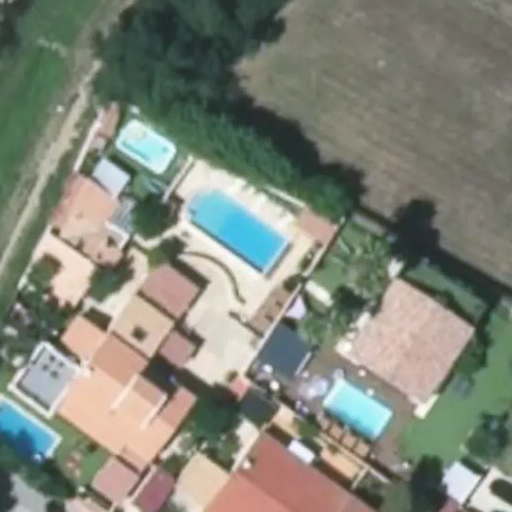pool: (207, 231, 304, 252)
